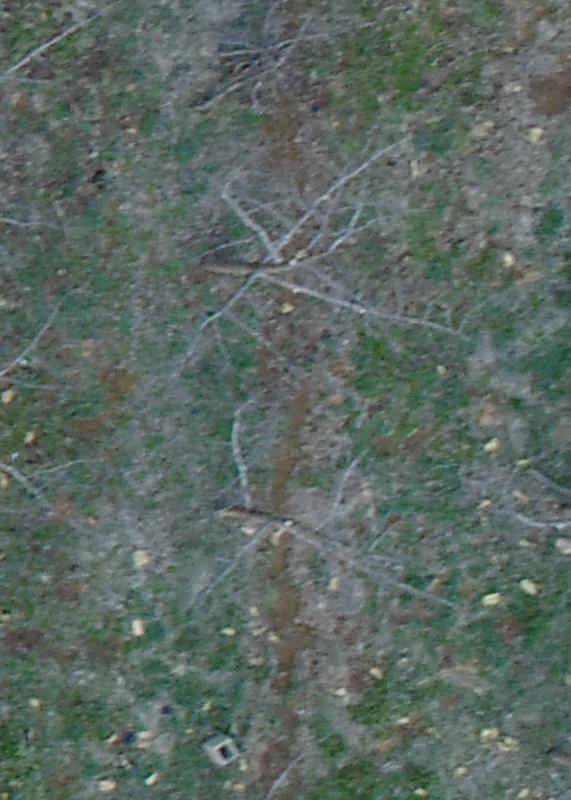apple: (125, 110, 507, 378), (152, 393, 488, 660)
